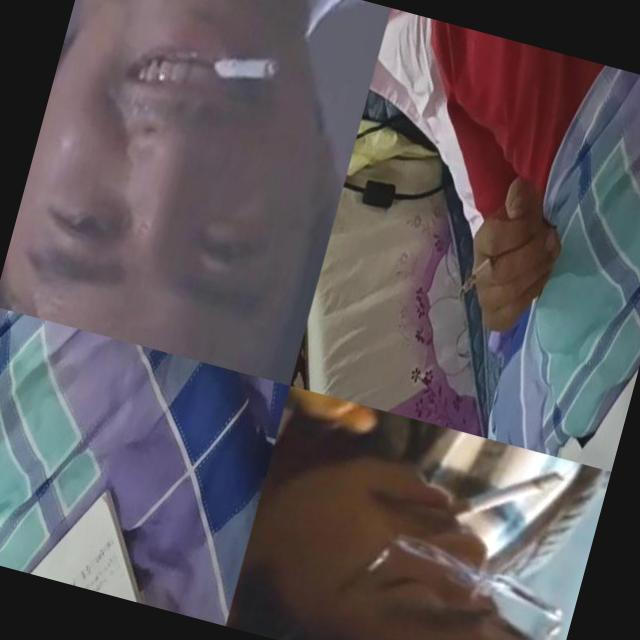smoke: (431, 443, 566, 549), (199, 41, 283, 98), (460, 244, 500, 298)
